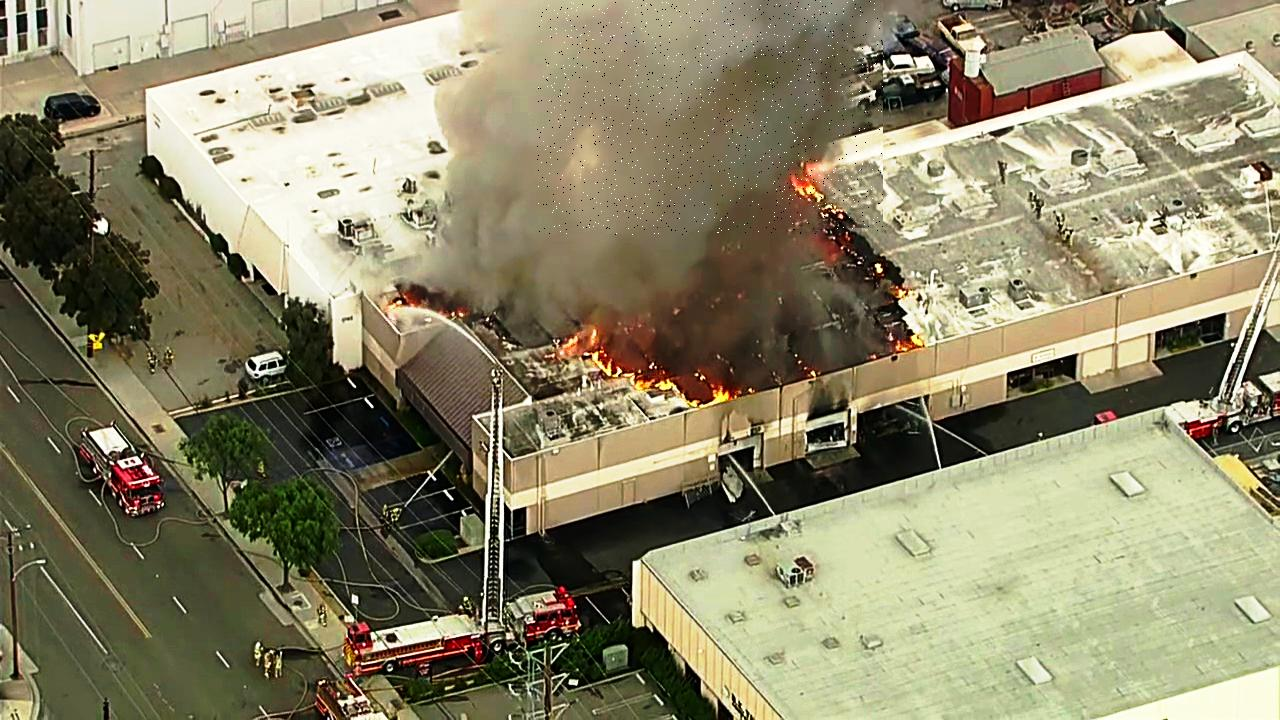smoke: (537, 0, 883, 235)
